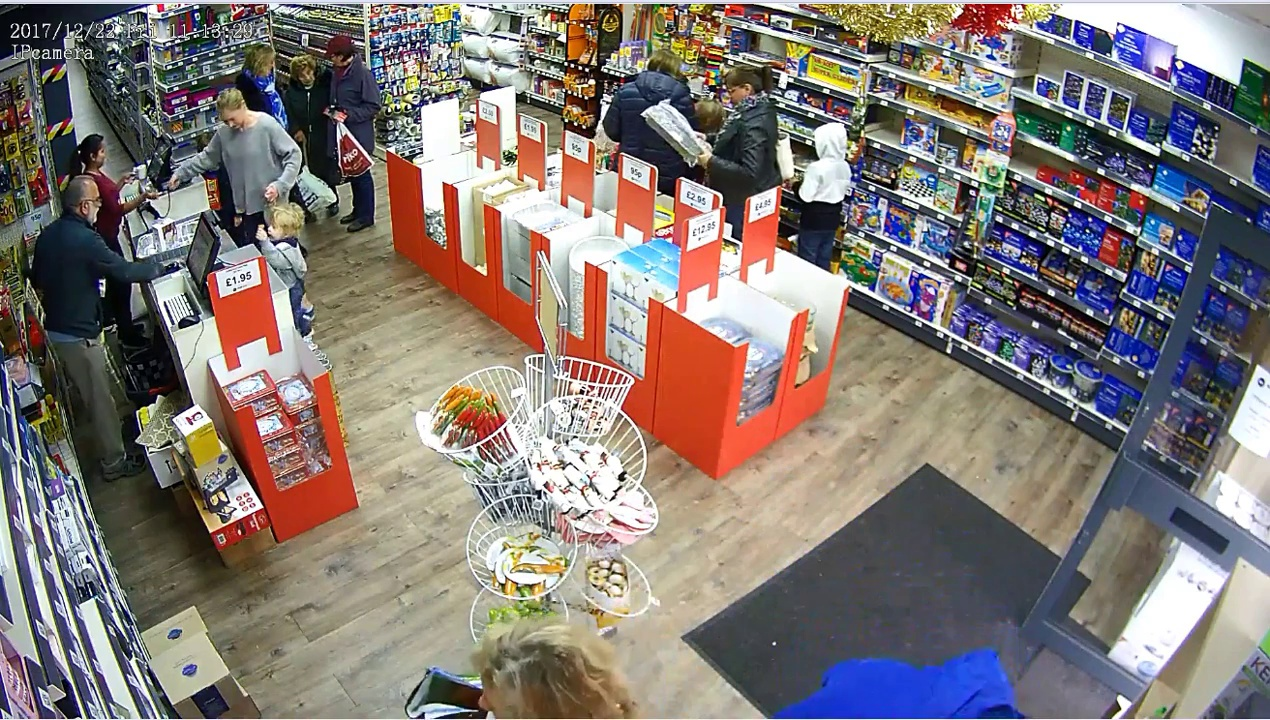face: (217, 103, 241, 133), (296, 66, 320, 85)
